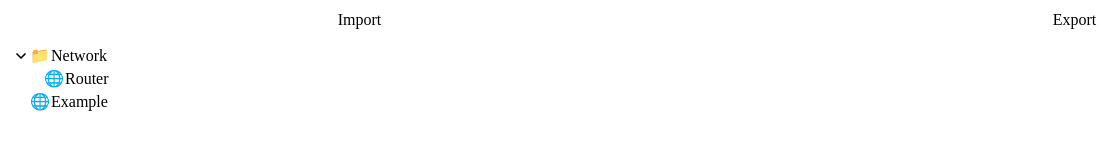
Scenario: BookmarkMenu › collapses a folder, hiding its children; clicking a folder does not navigate
Click the text "Network": (79, 55) [51,46,107,64]
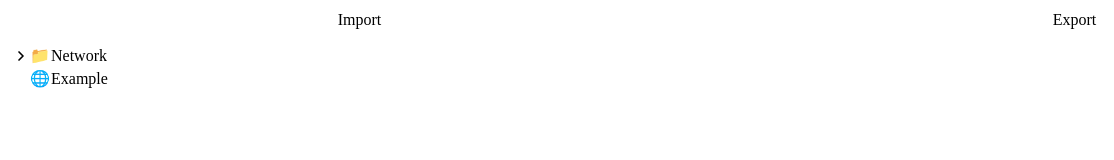
Expected: the text "Router" is gone
